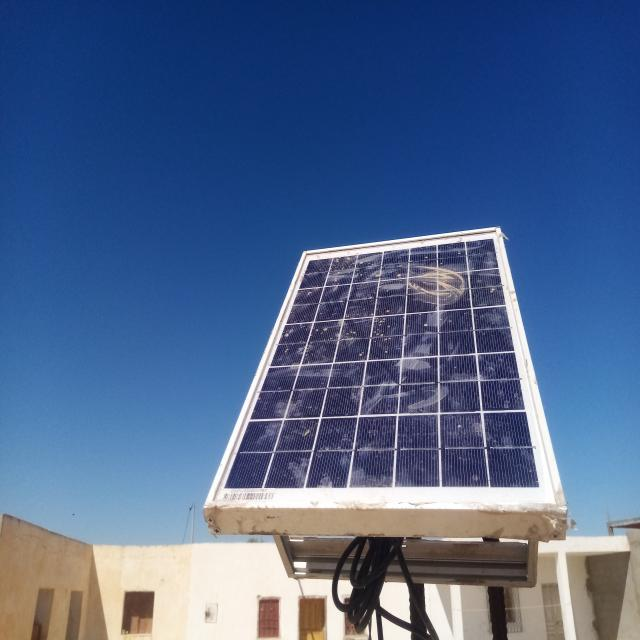faulty: (206, 226, 566, 511)
